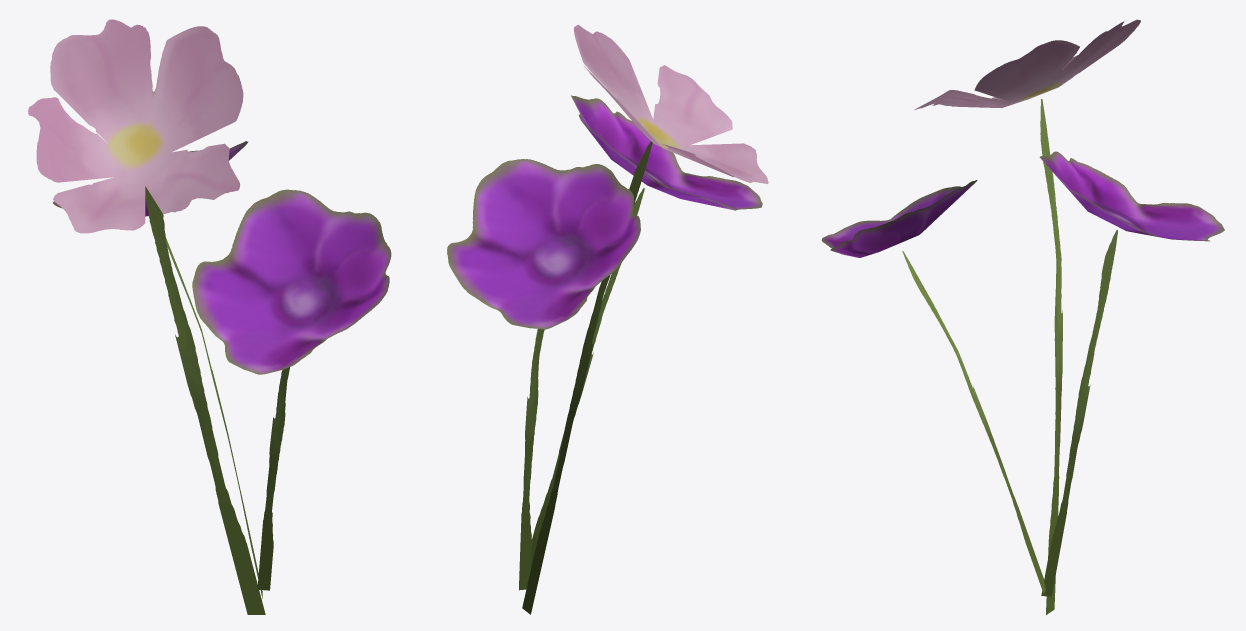
Rendered from Flores2.fbx.
The picture shows the model from 3 angles, left to right: view 1: azimuth 30°, elevation 25°; view 2: azimuth 150°, elevation 25°; view 3: azimuth 270°, elevation 25°; orthographic projection. The views are drawn at different scales.
Parts seen in each view (by area): view 1: Bush2.002; view 2: Bush2.002; view 3: Bush2.002.
Part boxes in pixels (x1=…): Bush2.002: x1=28, y1=19, x2=391, y2=614; Bush2.002: x1=447, y1=25, x2=768, y2=614; Bush2.002: x1=821, y1=19, x2=1224, y2=614.
Bounding box in the file's own units: 131 × 282 × 196.
